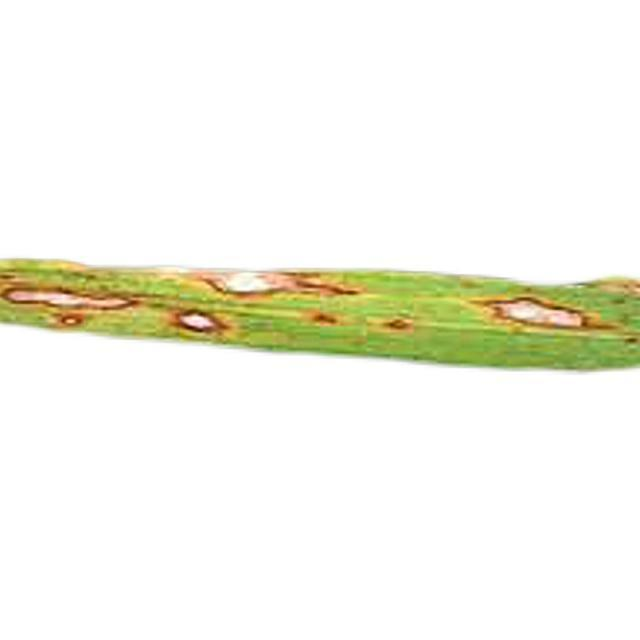Leaf_Blast: (3, 270, 140, 327), (475, 288, 622, 341), (192, 264, 351, 312), (158, 295, 234, 345)
